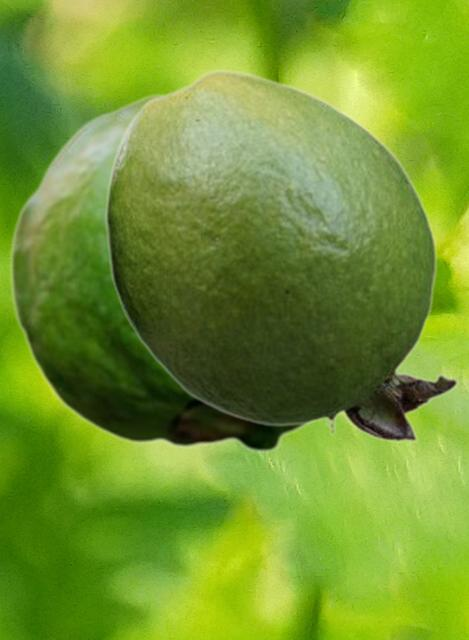guava: (104, 68, 458, 441), (9, 89, 317, 453)
